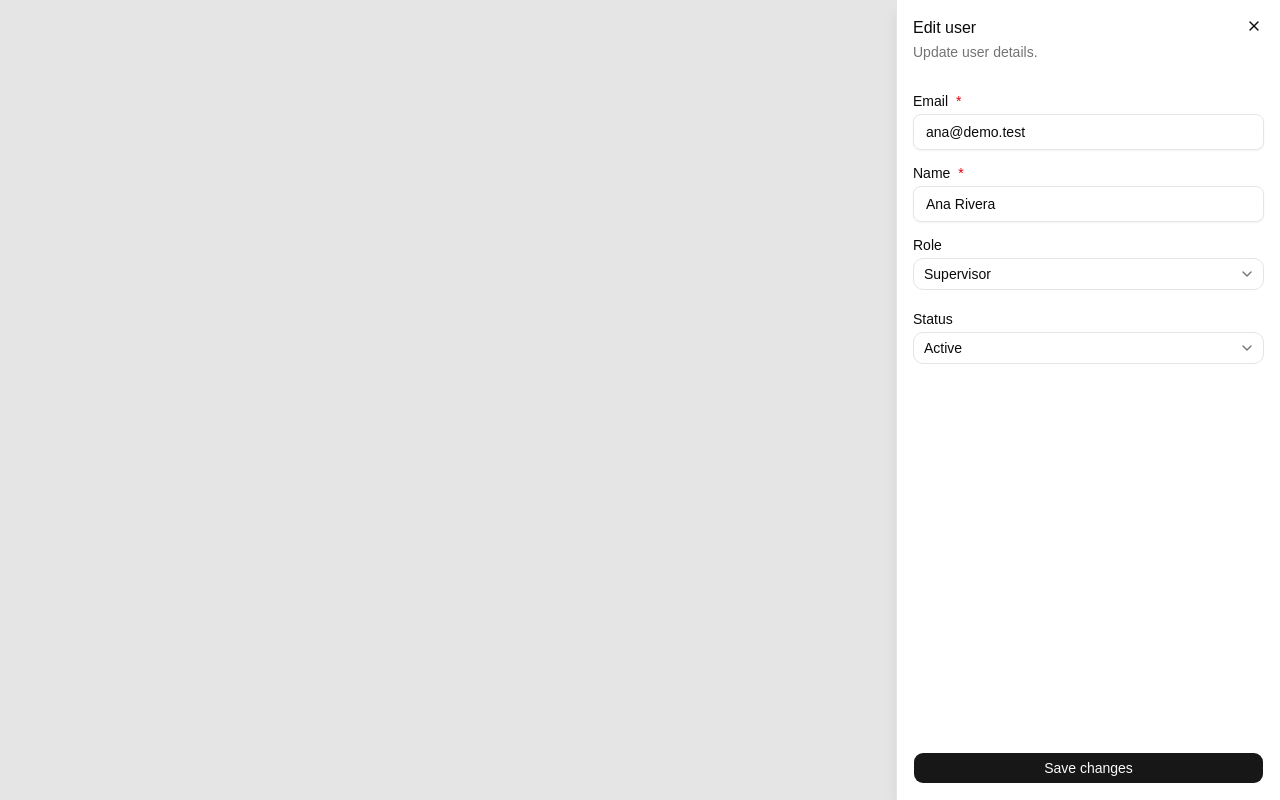
Test: UserForm leaving-Active hint › UserForm_ShouldShowTheHintForSuspendedAndHideItForActive_WhenEditingAnActiveUser
Click the dropdown with test id "user-form-status". click: (943, 348)
box: [913,332,1264,364]
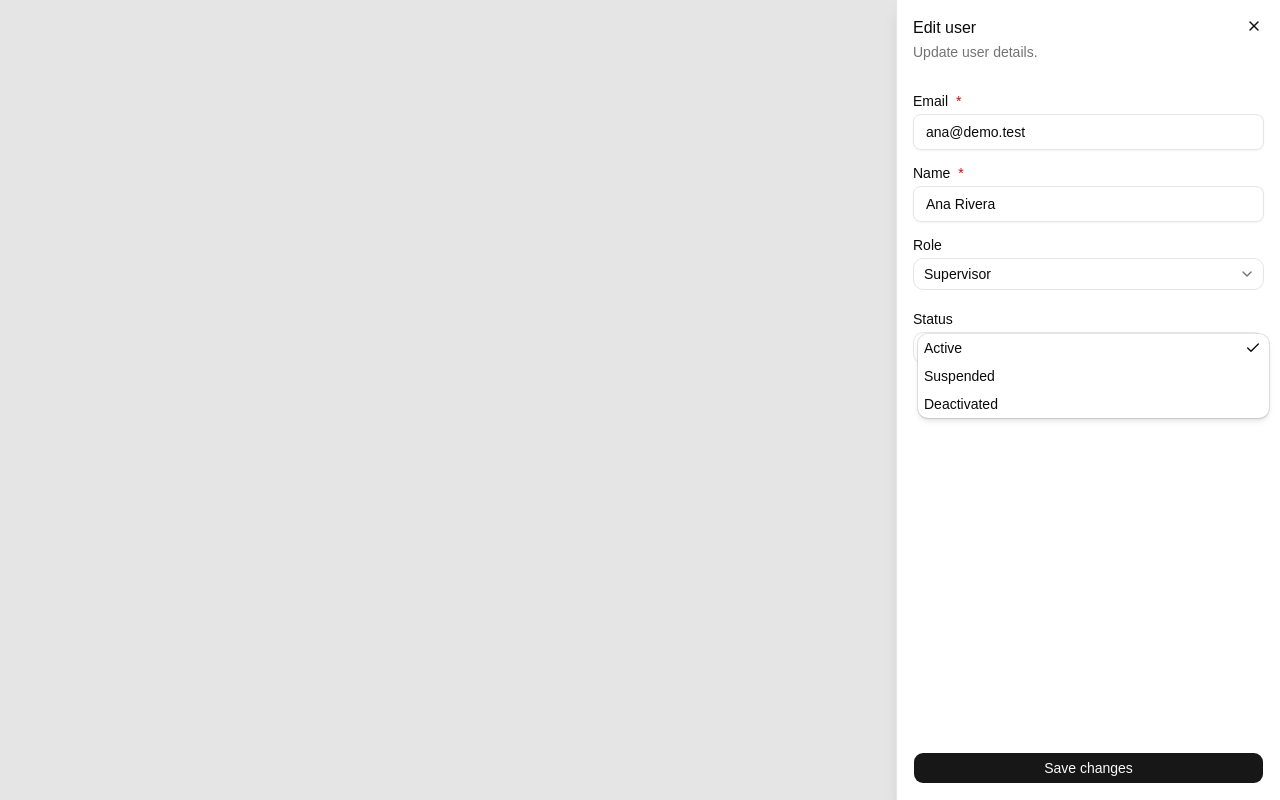
Click the option with test id "user-form-status-option-Suspended". click: (959, 376)
box: [924,368,995,384]
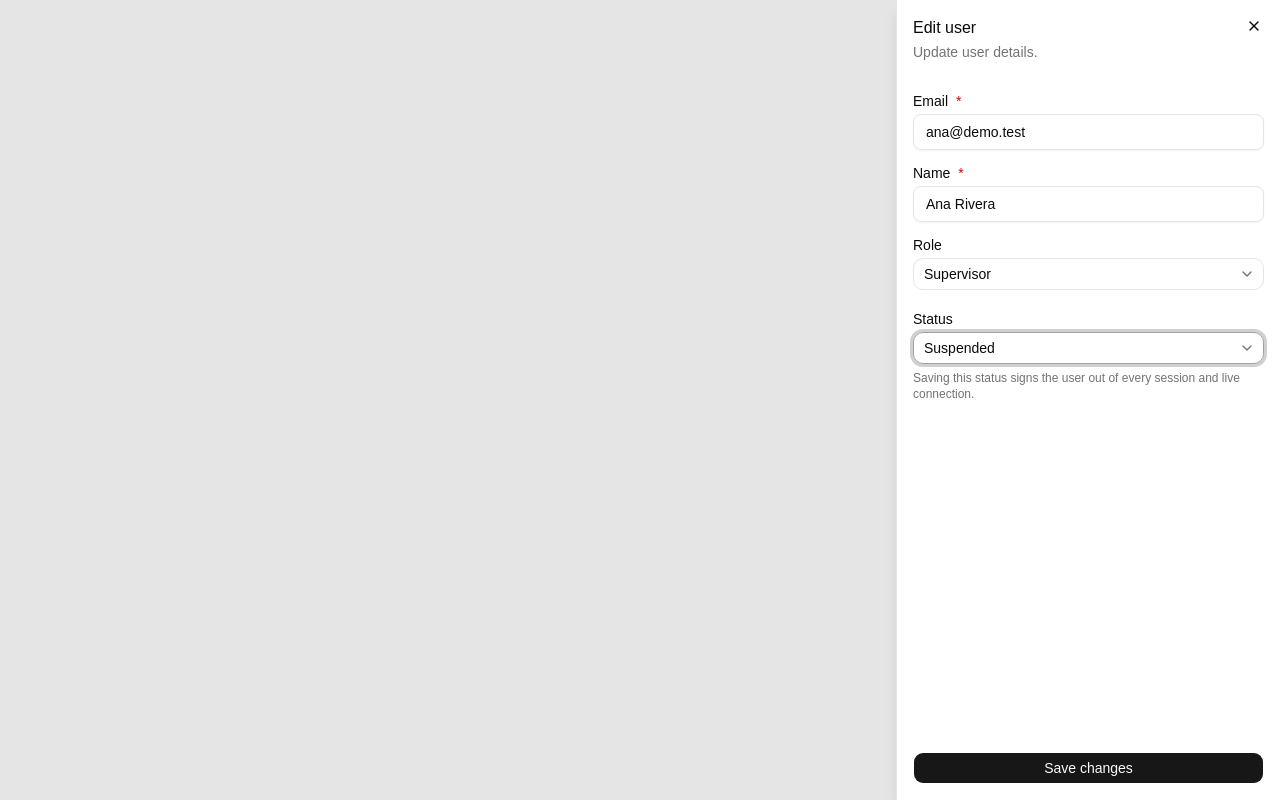
Expected: no options are shown
Click the dropdown with test id "user-form-status". click: (959, 348)
box: [913,332,1264,364]
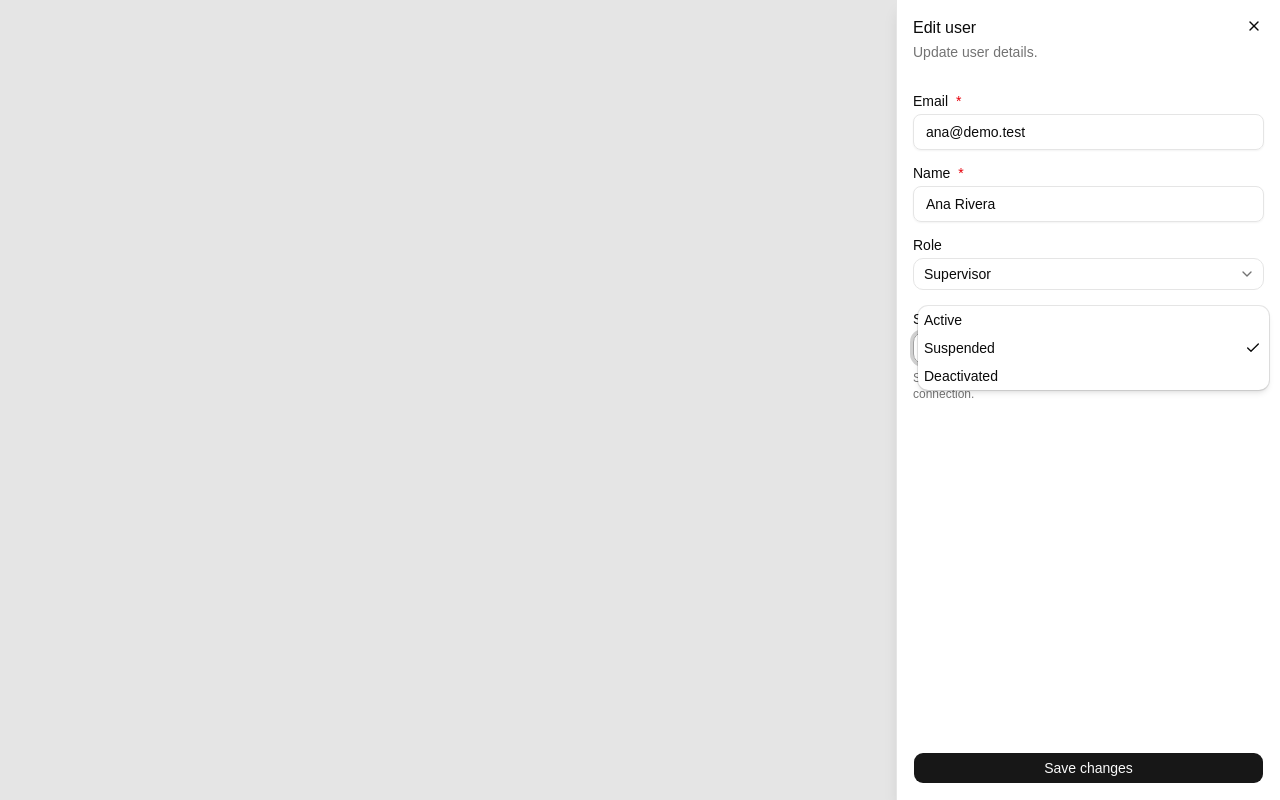
Click the option with test id "user-form-status-option-Active". click: (943, 320)
box: [924,312,962,328]
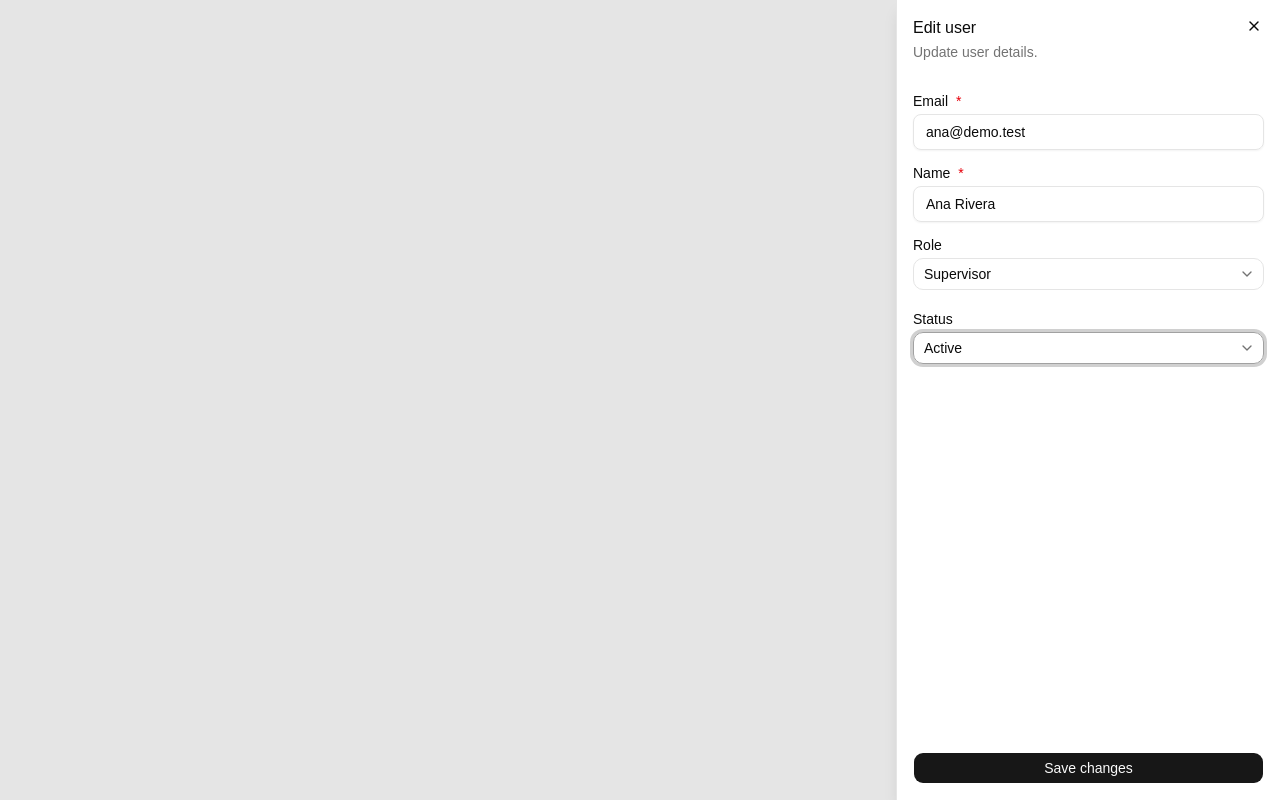
Expected: no options are shown
Click the dropdown with test id "user-form-status". click: (943, 348)
box: [913,332,1264,364]
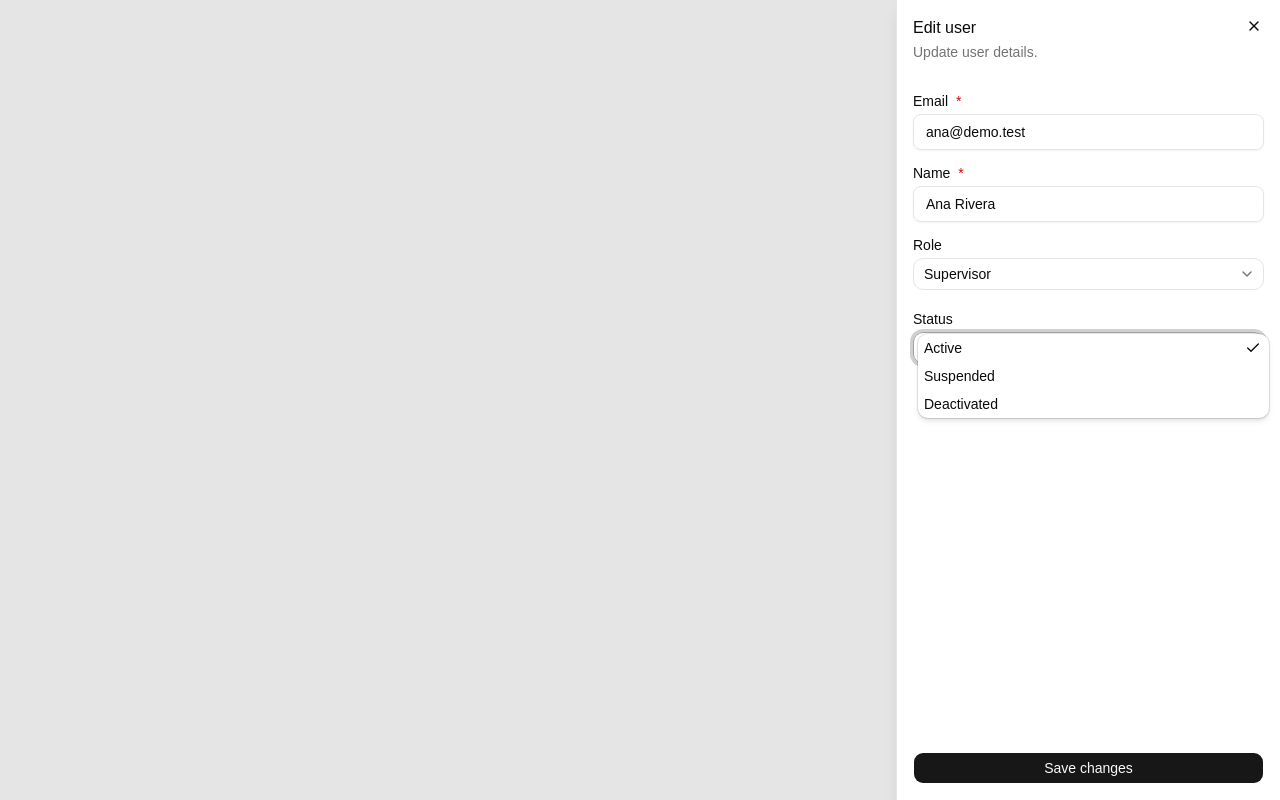
Click the option with test id "user-form-status-option-Deactivated". click: (961, 404)
box: [924,396,998,412]
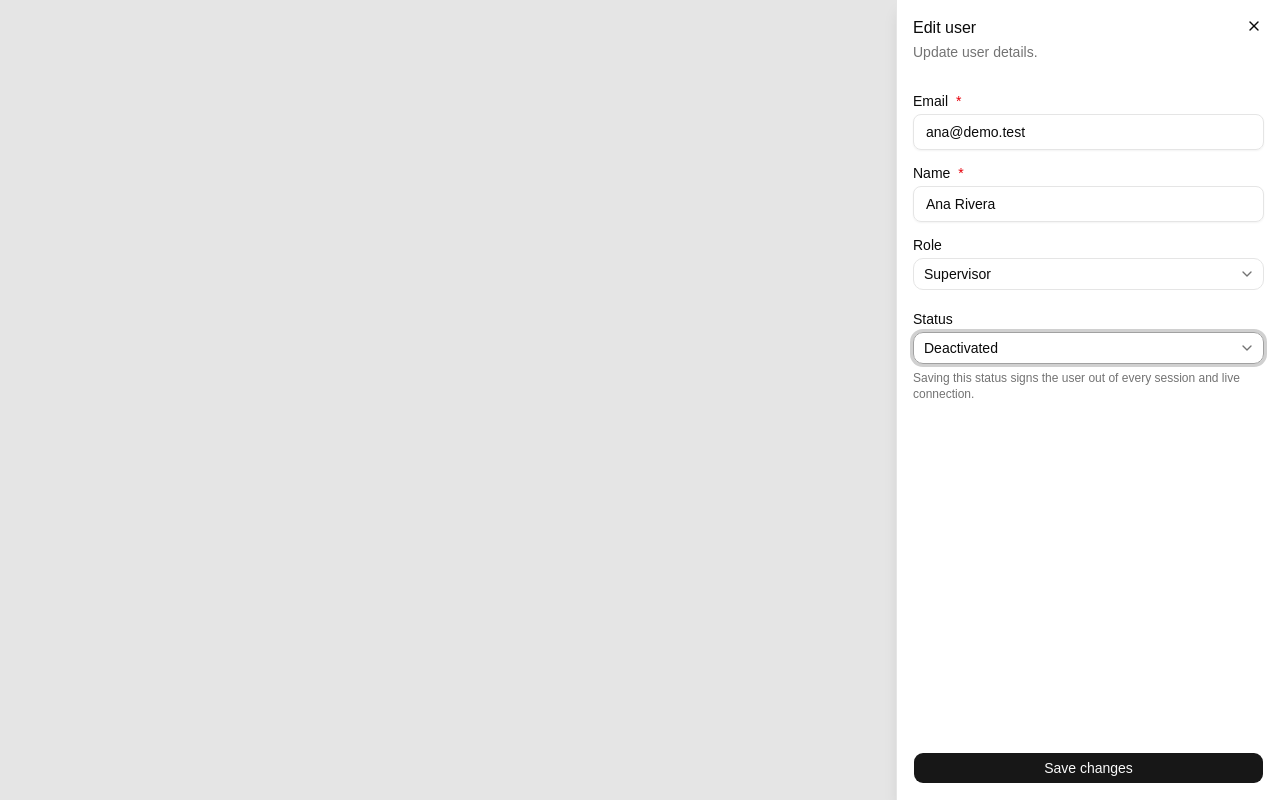
Expected: no options are shown
